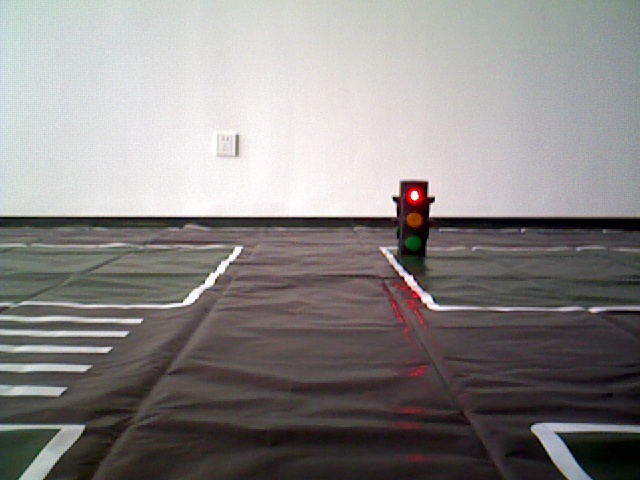red: (398, 183, 429, 256)
